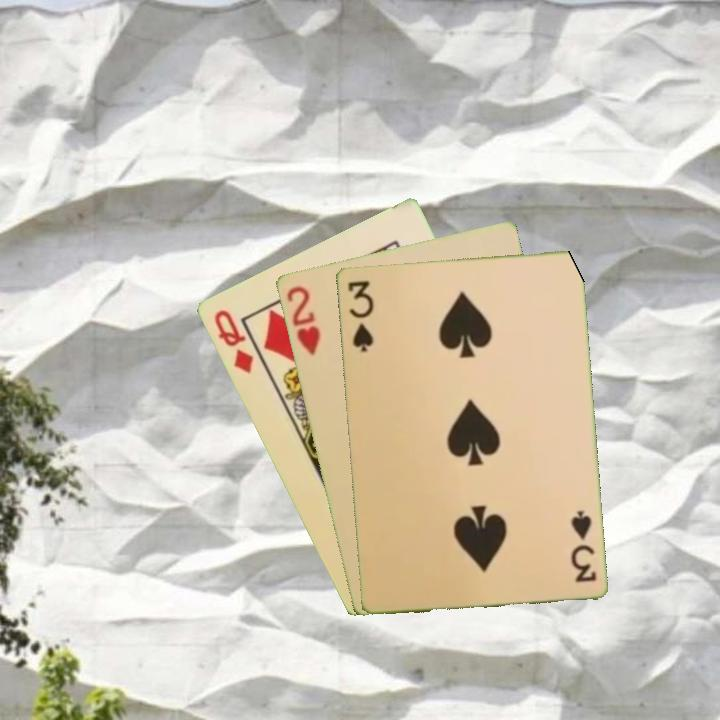2h: (282, 282, 323, 358)
3s: (343, 276, 376, 355), (566, 506, 599, 585)
Qd: (209, 305, 256, 377)
